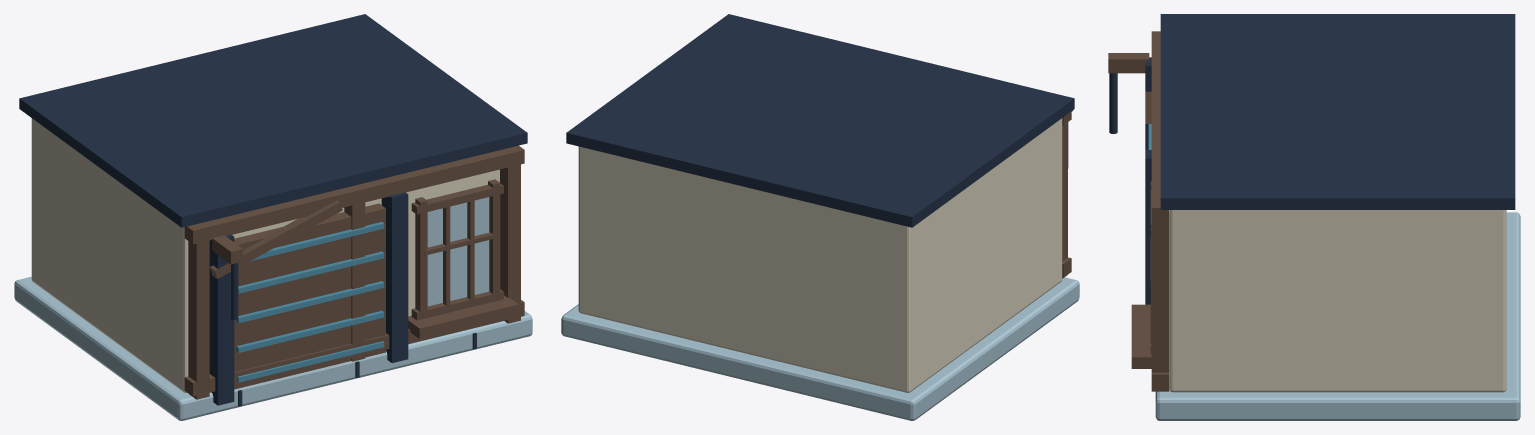
The model's file is base_workshop_banks_0.glb.
The picture shows the model from 3 angles, left to right: view 1: azimuth 30°, elevation 25°; view 2: azimuth 150°, elevation 25°; view 3: azimuth 270°, elevation 25°; orthographic projection. The views are drawn at different scales.
Visible parts, largest first — view 1: base_workshop_banks_0 ink, base_workshop_banks_0 wood, base_workshop_banks_0 plaster, base_workshop_banks_0 mist, base_workshop_banks_0 river, base_workshop_banks_0 glass; view 2: base_workshop_banks_0 plaster, base_workshop_banks_0 ink, base_workshop_banks_0 mist, base_workshop_banks_0 wood; view 3: base_workshop_banks_0 ink, base_workshop_banks_0 plaster, base_workshop_banks_0 mist, base_workshop_banks_0 wood.
Part boxes in pixels (box(x1,y1,x2,y2)): base_workshop_banks_0 ink: box(19, 14, 527, 406); base_workshop_banks_0 wood: box(184, 145, 524, 399); base_workshop_banks_0 plaster: box(31, 118, 499, 392); base_workshop_banks_0 mist: box(14, 276, 532, 420); base_workshop_banks_0 river: box(236, 222, 384, 382); base_workshop_banks_0 glass: box(427, 197, 489, 306); base_workshop_banks_0 plaster: box(578, 118, 1062, 392); base_workshop_banks_0 ink: box(566, 14, 1074, 227); base_workshop_banks_0 mist: box(561, 277, 1079, 420); base_workshop_banks_0 wood: box(1062, 110, 1073, 278); base_workshop_banks_0 ink: box(1109, 14, 1515, 304); base_workshop_banks_0 plaster: box(1169, 210, 1506, 392); base_workshop_banks_0 mist: box(1155, 212, 1520, 420); base_workshop_banks_0 wood: box(1108, 31, 1169, 391).
Bounding box in the file's own units: 0.875 × 0.48 × 0.8075.
